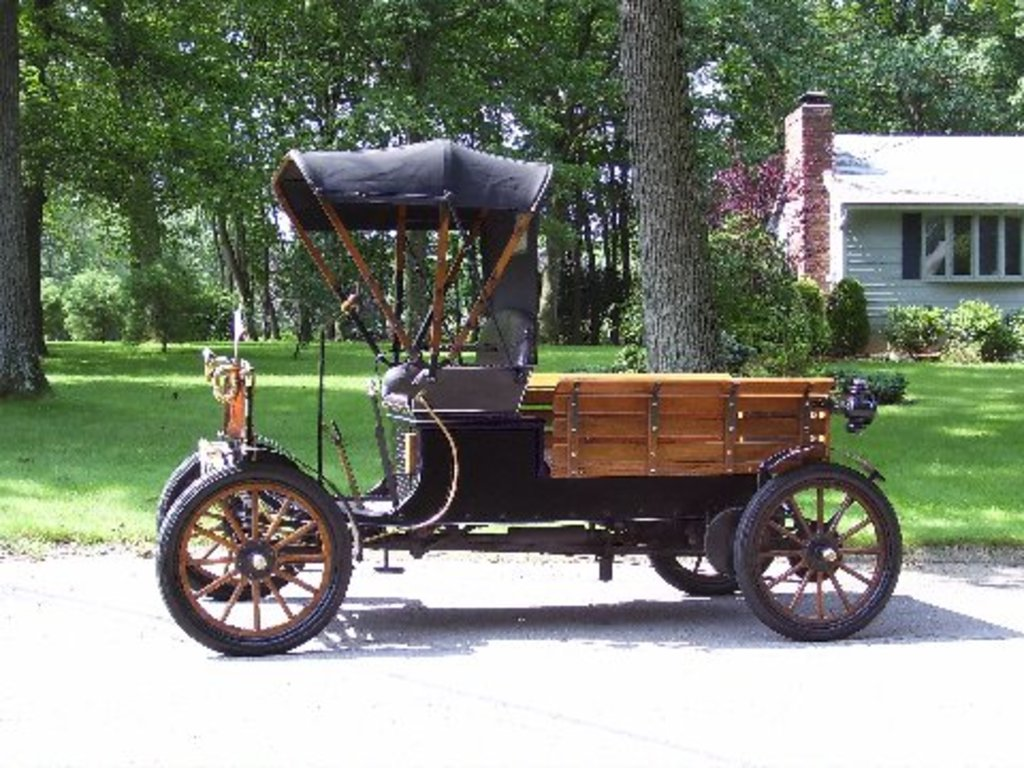Tree: (0, 0, 1024, 395)
